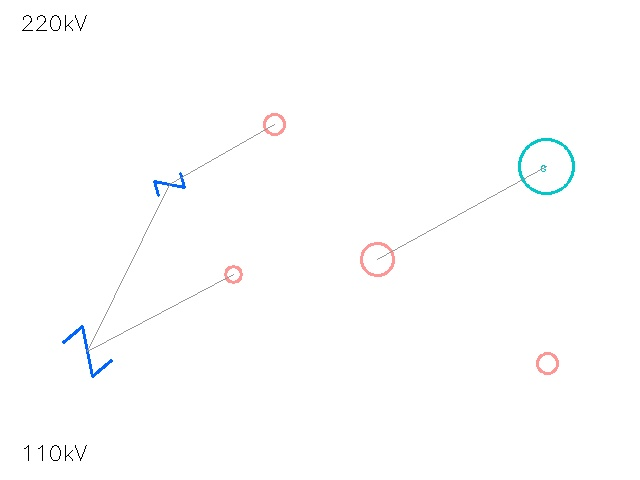circuit_breaker: (62, 326, 112, 376), (154, 169, 184, 199)
disconnect_switch: (216, 257, 250, 291)
fuse: (345, 227, 409, 291)
generator: (519, 139, 573, 193)
load_break_switch: (527, 343, 567, 383)
voltage_transformer: (254, 104, 294, 144)
